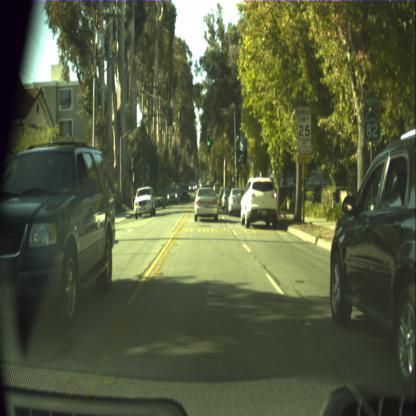Green: (206, 134, 210, 146), (236, 164, 238, 172)
